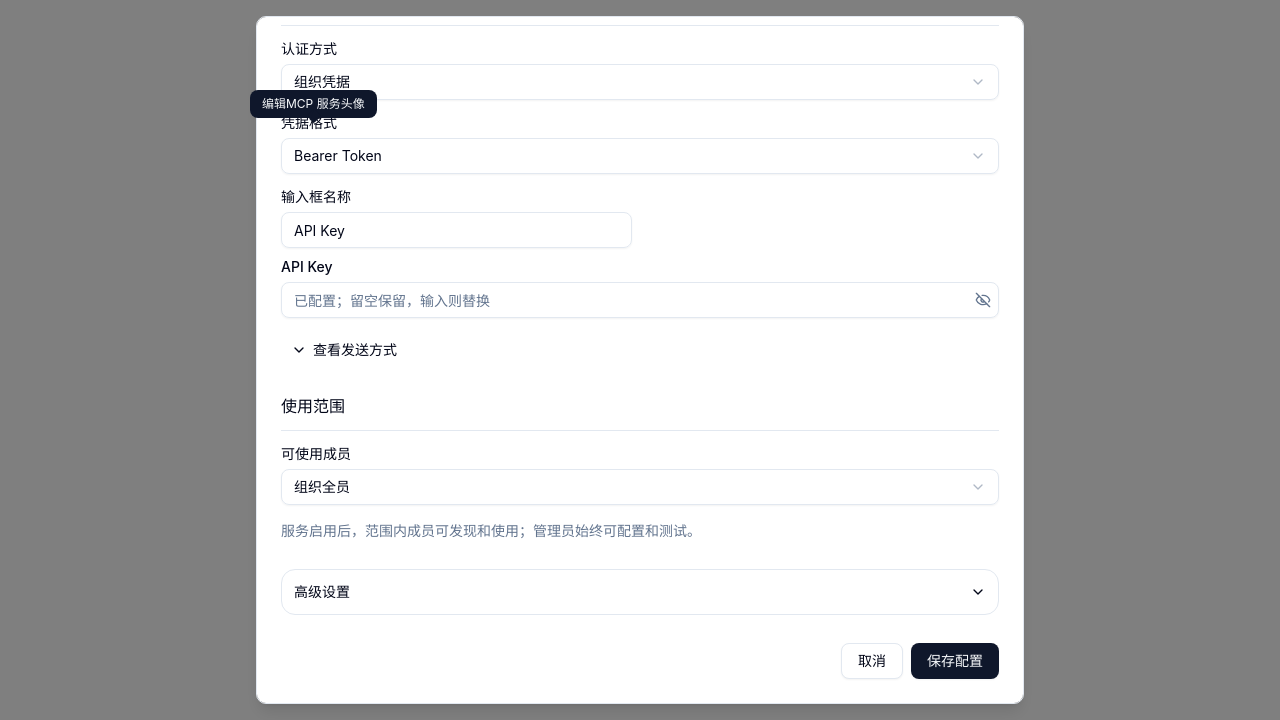
MCP 配置优化 › 已配置组织凭据留空可保存范围，修改地址仍要求重新填写
The image size is (1280, 720).
(page scrolled)
Click the dropdown named "可使用成员".
click(322, 486)  # box [281, 469, 999, 505]
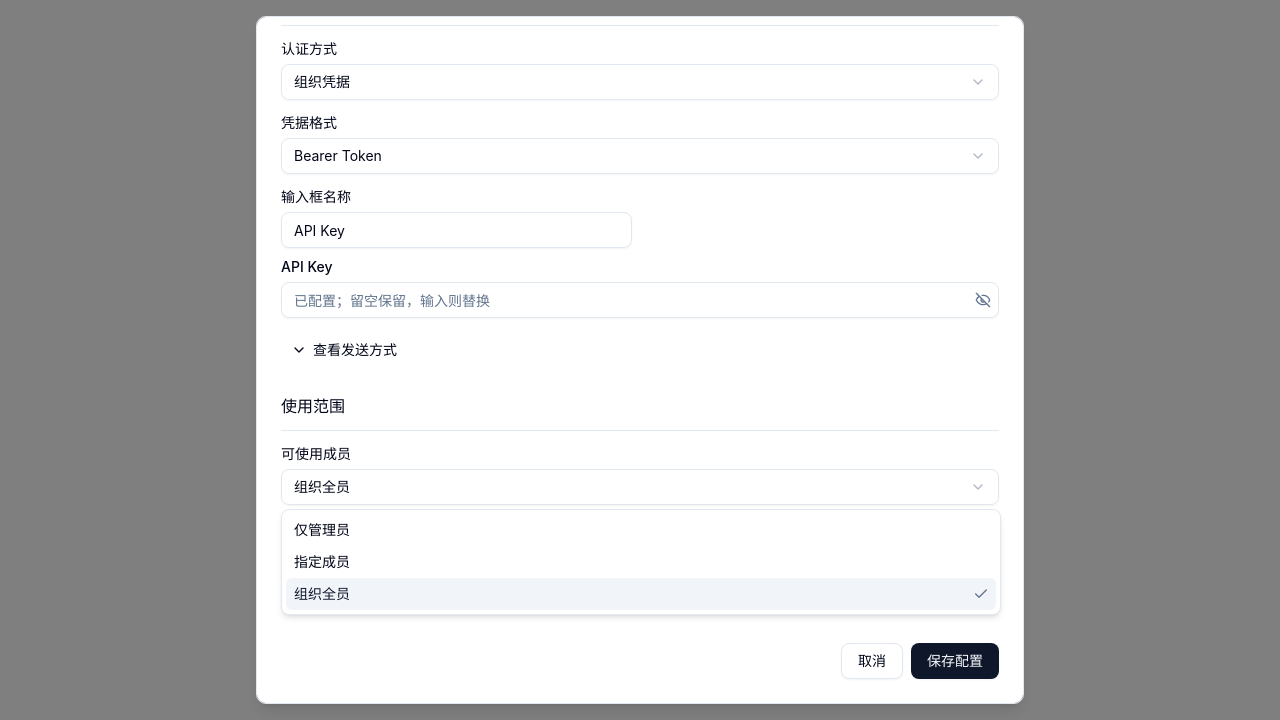
Click the option "仅管理员".
click(322, 530)  # box [294, 521, 350, 538]
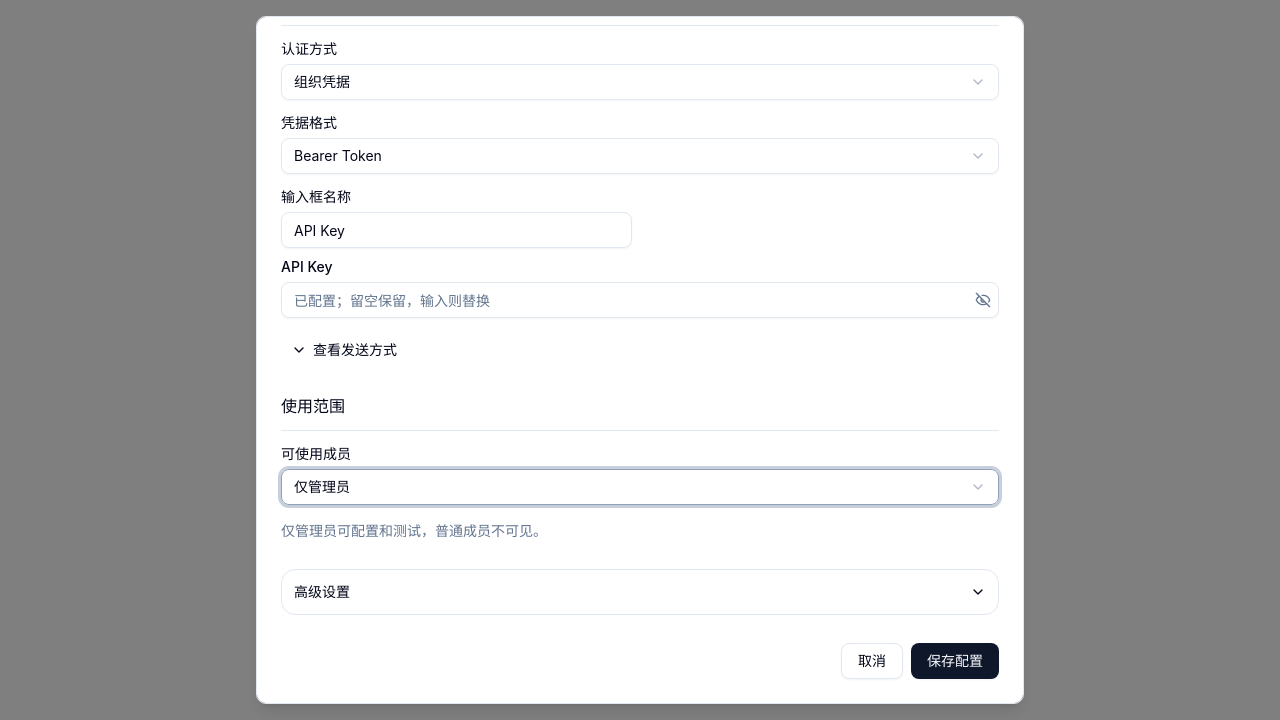
Click the button "保存配置".
click(955, 661)  # box [911, 643, 999, 679]
(page scrolled)
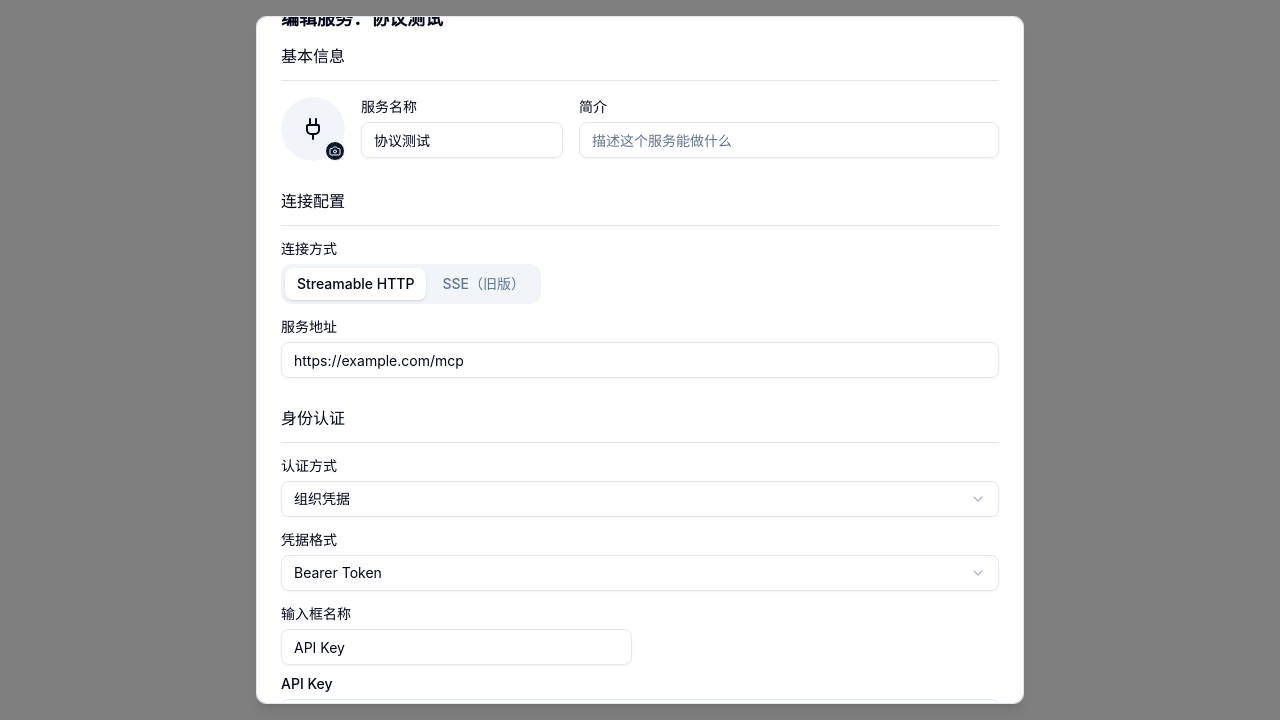
Type "https://other.example/mcp" into the field labelled "服务地址".
click(640, 360); type("https://other.example/mcp")  # box [281, 342, 999, 378]
(page scrolled)
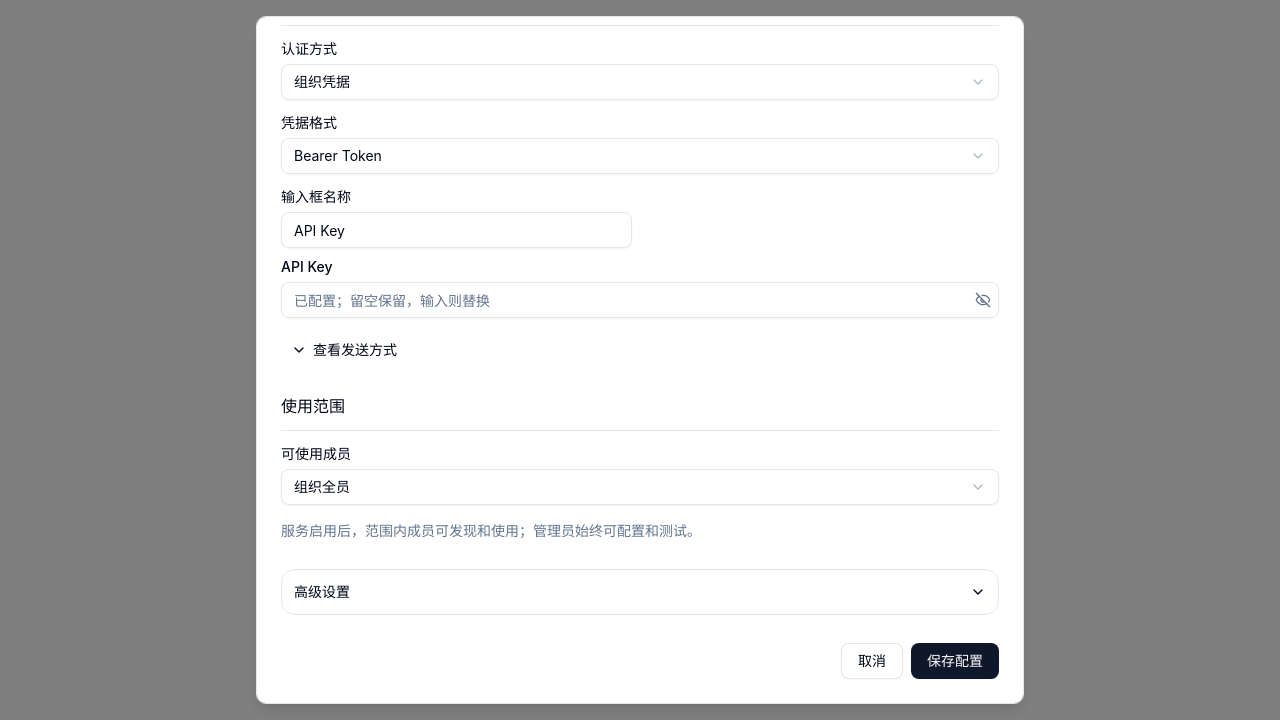
Click the button "保存配置".
click(955, 661)  # box [911, 643, 999, 679]
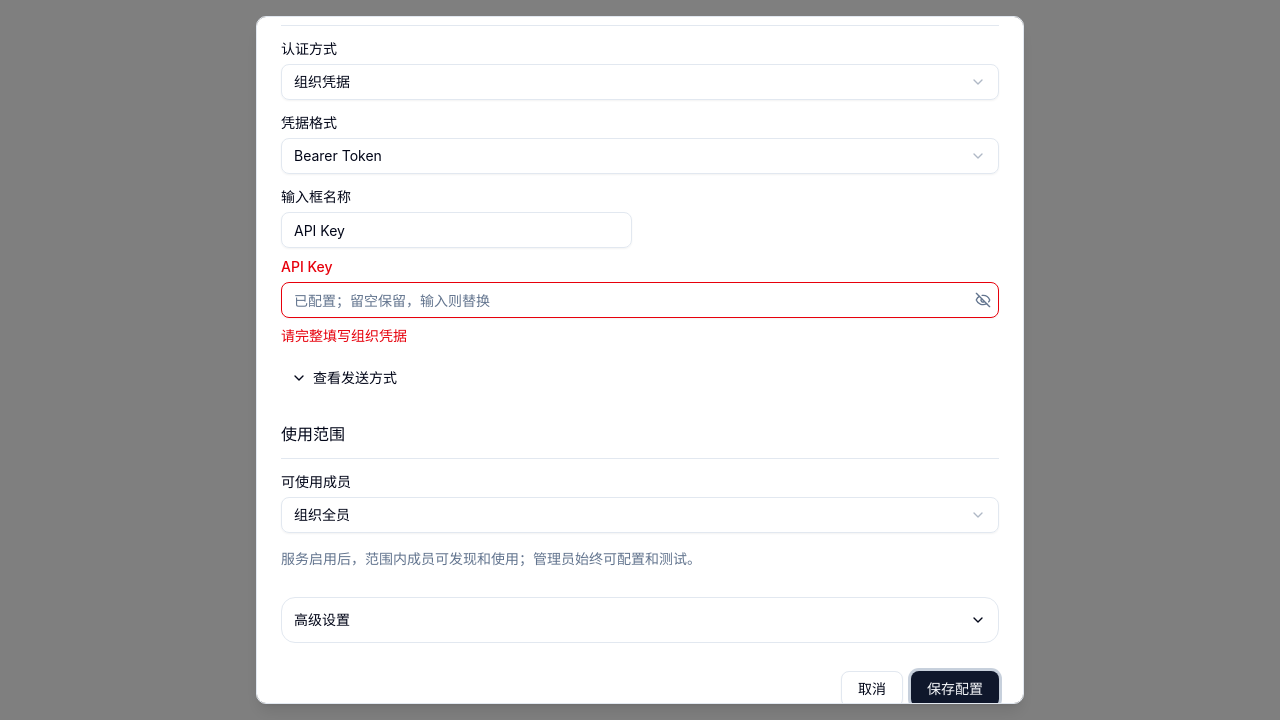
Expected: the text "请完整填写组织凭据" is shown, [281, 327, 407, 344]
